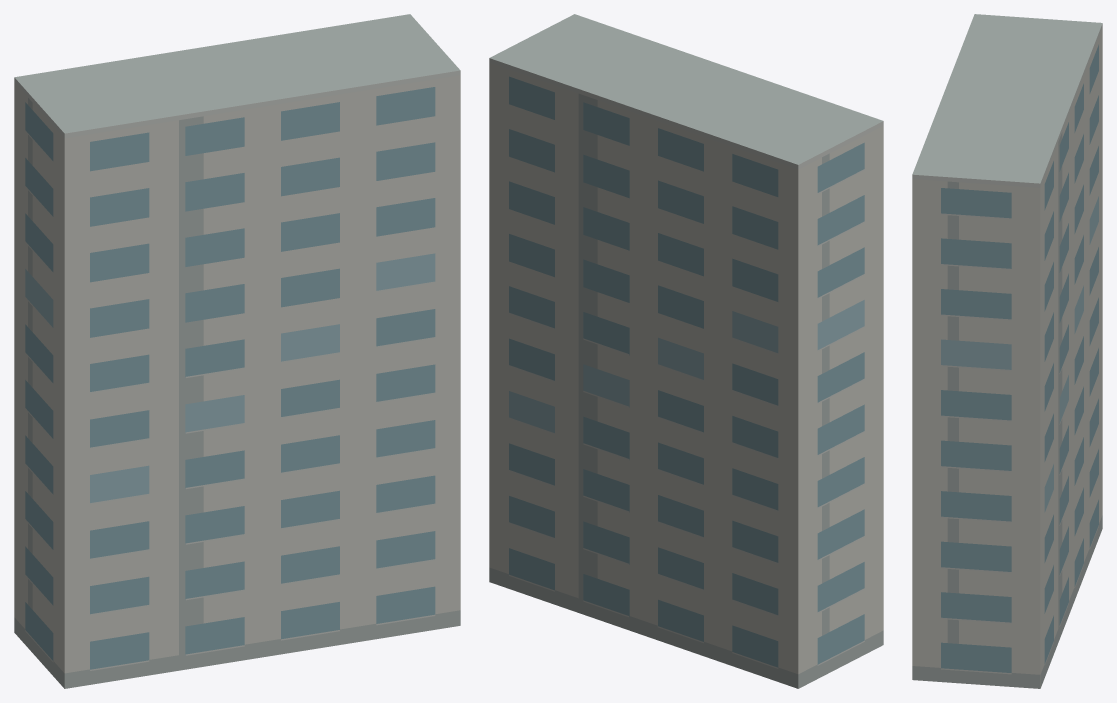
The model's file is residential-d8ddcedf-18d5-4276-9e62-de4b32f410ee.glb.
3 renders of one model, left to right at view 1: azimuth 30°, elevation 25°; view 2: azimuth 150°, elevation 25°; view 3: azimuth 270°, elevation 25°, orthographic. The views are drawn at different scales.
Visible parts, largest first — view 1: residential-d8ddcedf-18d5-4276-9e62-de4b32f410ee.tmp; view 2: residential-d8ddcedf-18d5-4276-9e62-de4b32f410ee.tmp; view 3: residential-d8ddcedf-18d5-4276-9e62-de4b32f410ee.tmp.
Part boxes in pixels (bbox=[...]): residential-d8ddcedf-18d5-4276-9e62-de4b32f410ee.tmp: bbox=[14, 14, 460, 688]; residential-d8ddcedf-18d5-4276-9e62-de4b32f410ee.tmp: bbox=[489, 14, 883, 688]; residential-d8ddcedf-18d5-4276-9e62-de4b32f410ee.tmp: bbox=[912, 14, 1102, 688].
Bounding box in the file's own units: 20.16 × 28 × 9.57.
